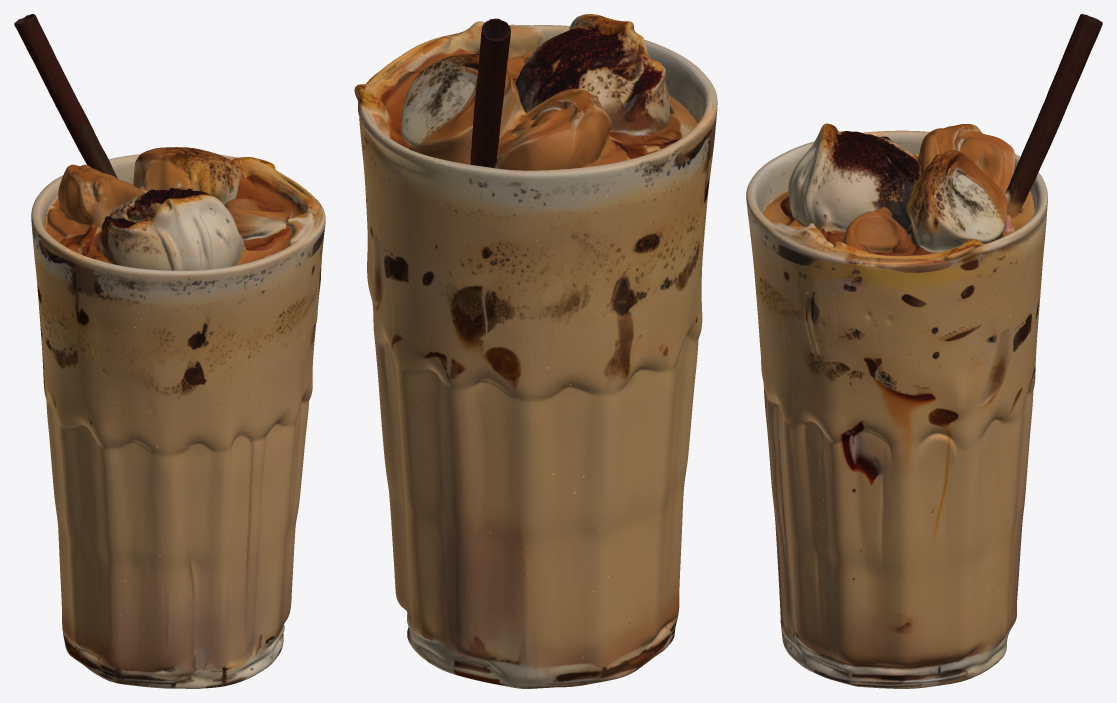
The model's file is coldcoffee.glb.
The picture shows the model from 3 angles, left to right: view 1: azimuth 30°, elevation 25°; view 2: azimuth 150°, elevation 25°; view 3: azimuth 270°, elevation 25°; orthographic projection. The views are drawn at different scales.
Visible parts, largest first — view 1: tripo_node_faa76262-027b-4786-8ada-b7d4b74eb323; view 2: tripo_node_faa76262-027b-4786-8ada-b7d4b74eb323; view 3: tripo_node_faa76262-027b-4786-8ada-b7d4b74eb323.
Part boxes in pixels (x1,y1,x2,y2): tripo_node_faa76262-027b-4786-8ada-b7d4b74eb323: (14, 14, 325, 688); tripo_node_faa76262-027b-4786-8ada-b7d4b74eb323: (354, 14, 717, 688); tripo_node_faa76262-027b-4786-8ada-b7d4b74eb323: (746, 14, 1102, 688).
Bounding box in the file's own units: 0.4594 × 1 × 0.5373.
Materials: 1 (1 with a texture image).
